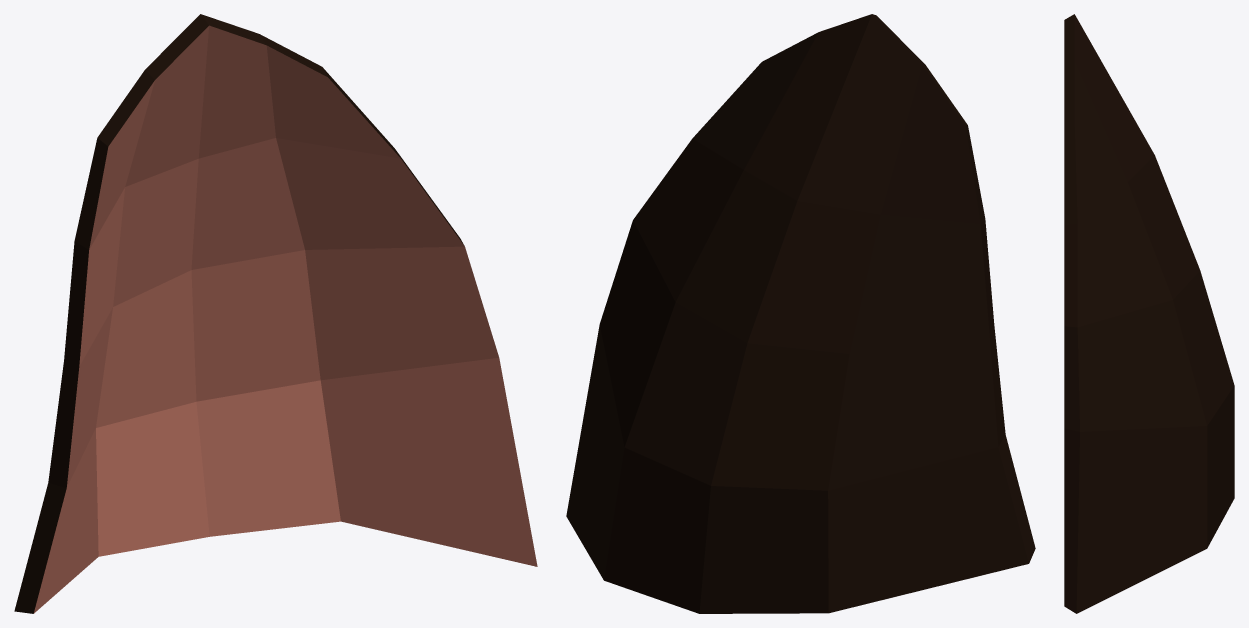
The model's file is PulmonDer.glb.
The picture shows the model from 3 angles, left to right: view 1: azimuth 30°, elevation 25°; view 2: azimuth 150°, elevation 25°; view 3: azimuth 270°, elevation 25°; orthographic projection. The views are drawn at different scales.
Parts seen in each view (by area): view 1: Geo_CatEar; view 2: Geo_CatEar; view 3: Geo_CatEar.
Part boxes in pixels (x1,y1,x2,y2): Geo_CatEar: (14, 14, 537, 613); Geo_CatEar: (566, 14, 1035, 613); Geo_CatEar: (1064, 14, 1234, 613).
Size of the model in its own units: 12.75 by 15.01 by 4.85.
Materials: 1 (1 with a texture image).
